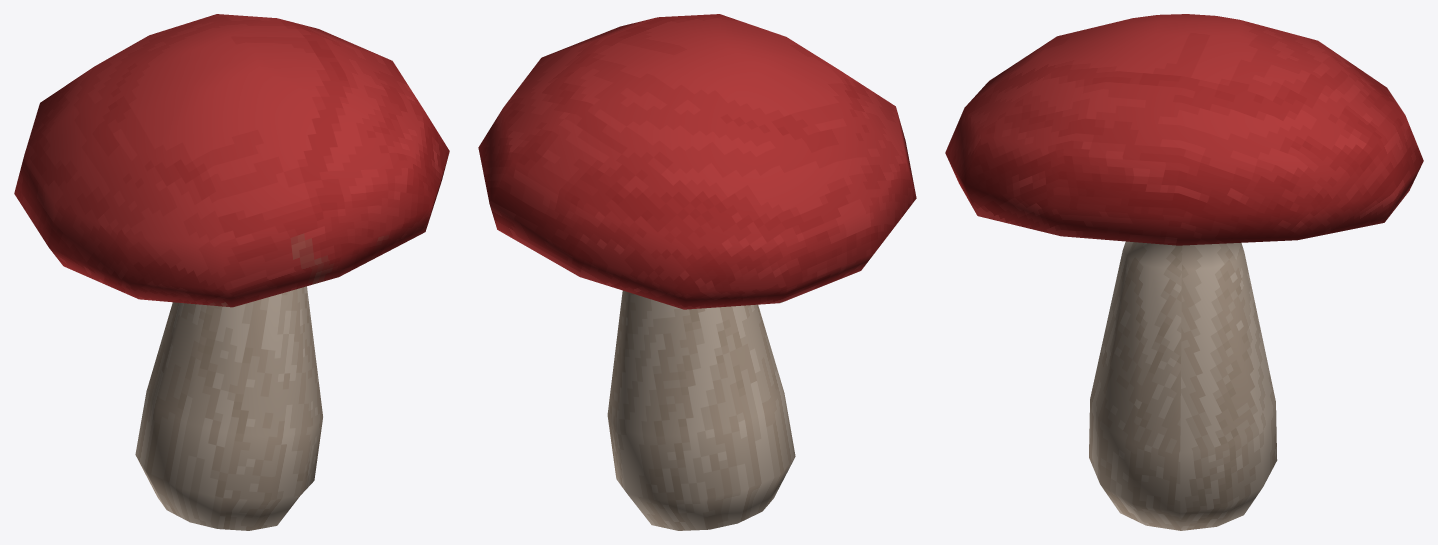
The model's file is Seta.fbx.
3 views of the same model, side by side, from view 1: azimuth 30°, elevation 25°; view 2: azimuth 150°, elevation 25°; view 3: azimuth 270°, elevation 25° (orthographic). The views are drawn at different scales.
Parts seen in each view (by area): view 1: Cylinder; view 2: Cylinder; view 3: Cylinder.
Part boxes in pixels (box(x1,y1,x2,y2)): Cylinder: box(14, 14, 449, 530); Cylinder: box(478, 14, 916, 530); Cylinder: box(945, 14, 1423, 530).
Size of the model in its own units: 258 by 318 by 285.
1 material, 1 textured.
